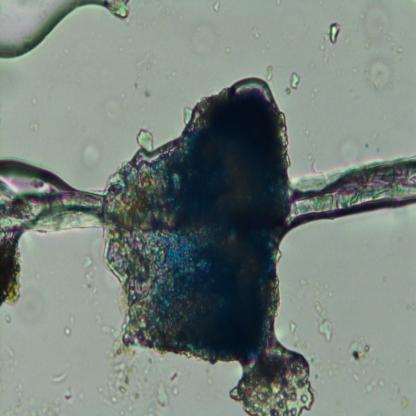Air bubble: (0, 0, 103, 61), (0, 154, 71, 196)
Background material: (287, 150, 416, 230), (230, 337, 316, 414), (97, 324, 141, 403), (2, 386, 89, 414), (352, 6, 403, 52), (142, 365, 182, 412), (0, 231, 21, 307), (192, 12, 226, 58), (13, 284, 47, 324), (362, 56, 396, 94), (308, 300, 337, 343), (133, 53, 158, 99), (347, 338, 374, 375), (81, 143, 106, 171), (103, 0, 131, 23), (80, 251, 96, 291), (101, 92, 122, 121), (393, 380, 412, 410), (134, 128, 154, 152), (362, 377, 387, 395), (325, 21, 343, 45), (315, 40, 329, 70), (284, 70, 300, 94), (243, 21, 263, 39), (62, 314, 76, 339), (48, 371, 69, 385), (282, 315, 297, 334), (28, 91, 40, 107), (27, 121, 41, 133), (264, 63, 273, 81), (212, 0, 222, 13), (222, 47, 233, 57), (116, 44, 125, 54)
Cellulose filter fibre: (0, 187, 102, 234)
Fragment: (134, 81, 292, 367)
